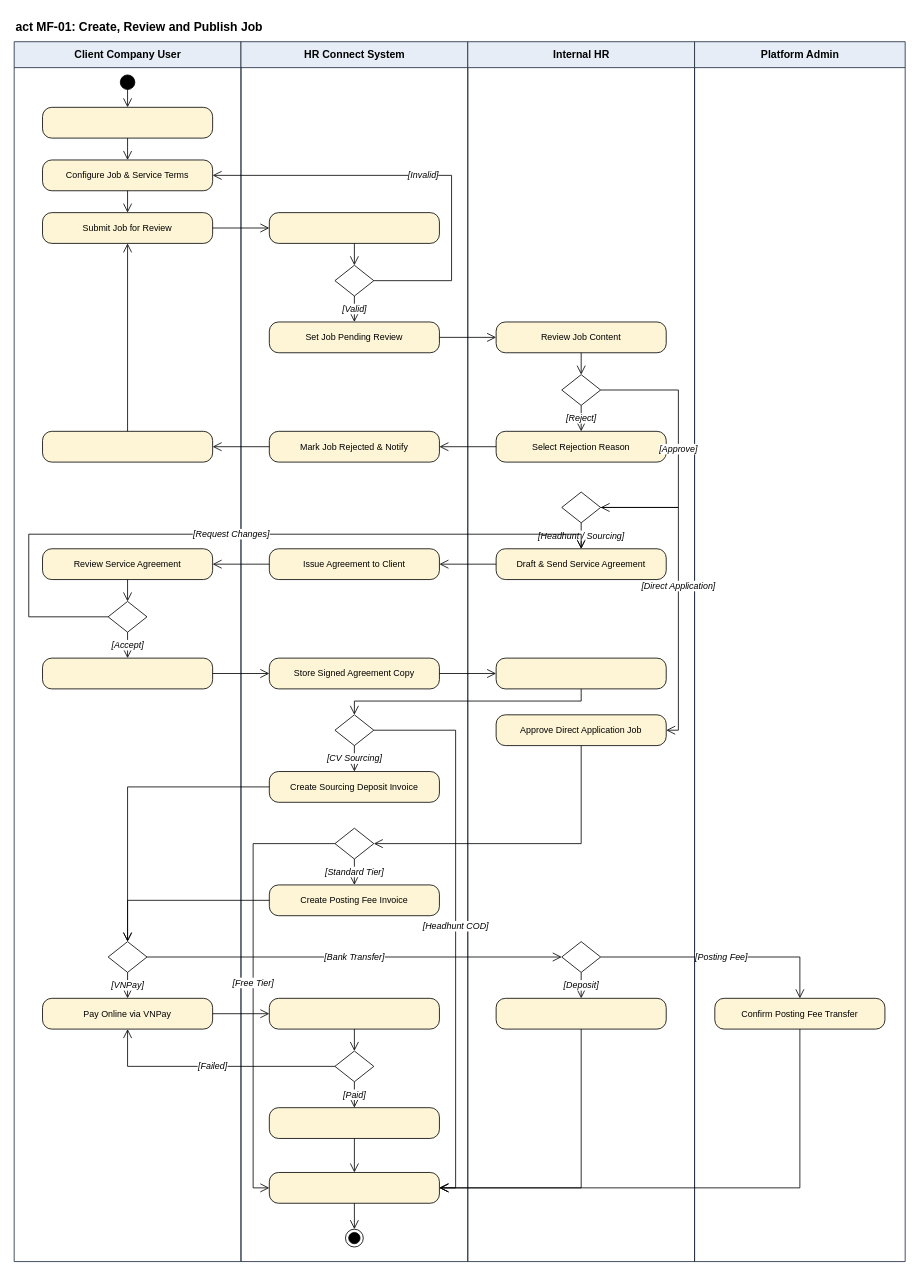
Some shapes in this 919 by 1276 pixel diagram are drawn without their labels. Here are the shapes that lost their labels. From the top down, the centre of each, then its label:
At [127,122]: "Create Draft Job".
At [354,227]: "Validate Job & Requirements".
At [127,446]: "Revise Job Content".
At [127,673]: "Upload Signed Agreement Copy".
At [580,673]: "Verify & Approve Agreement".
At [354,1013]: "Verify VNPay Callback".
At [580,1013]: "Confirm Sourcing Deposit".
At [354,1122]: "Record VNPay Transaction".
At [354,1187]: "Activate & Publish Job".
